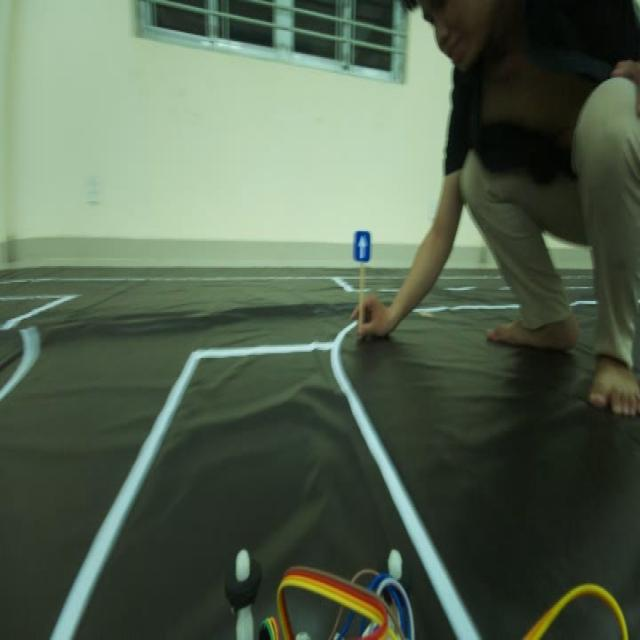onewayroad: (349, 218, 374, 267)
